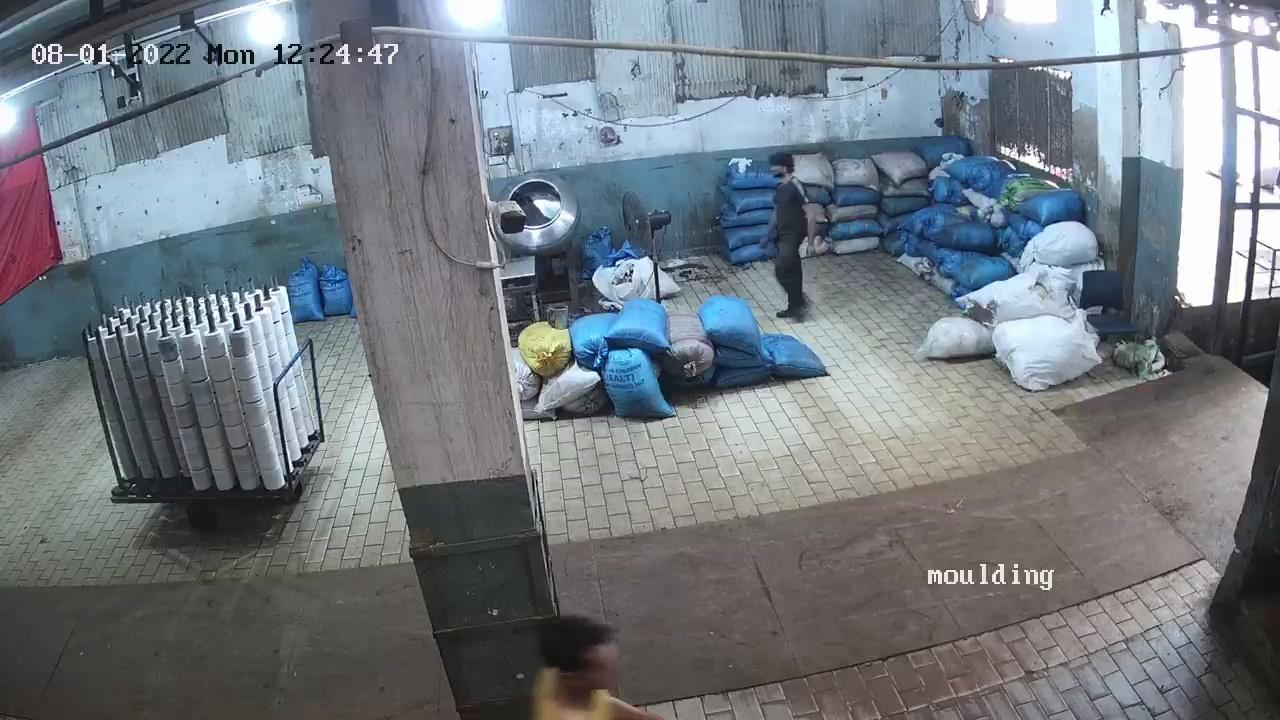person: (762, 152, 817, 310)
